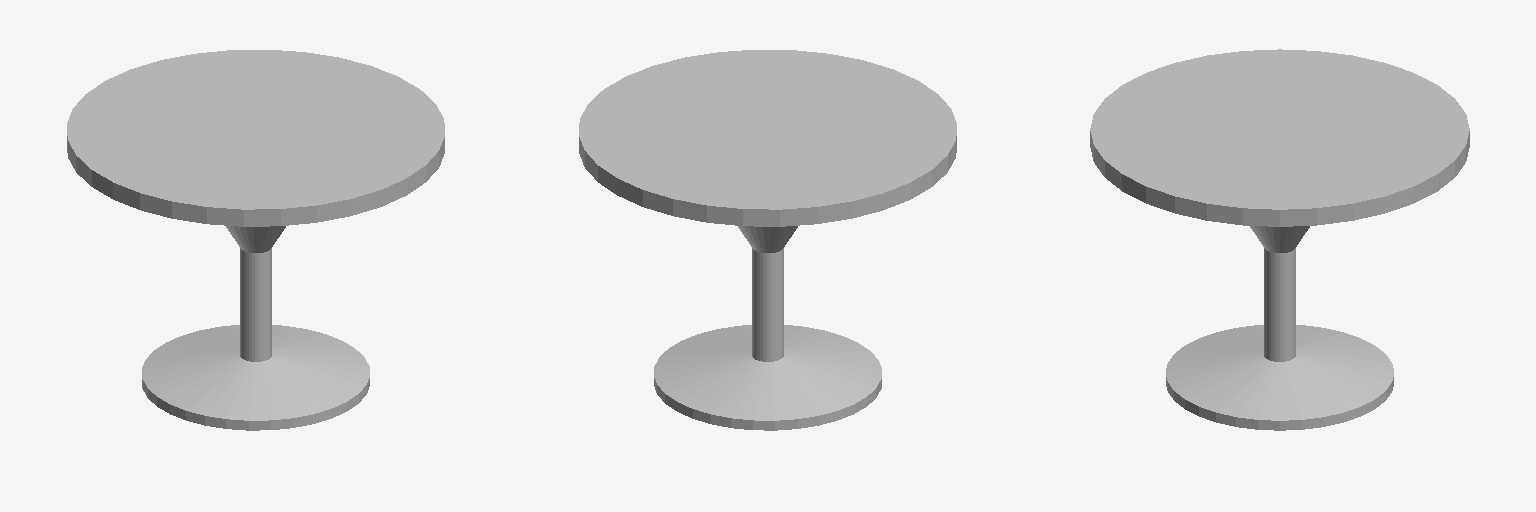
The model's file is table3.obj.
3 views of the same model, side by side, from view 1: azimuth 30°, elevation 25°; view 2: azimuth 150°, elevation 25°; view 3: azimuth 270°, elevation 25° (orthographic).
Parts seen in each view (by area): view 1: Table_3; view 2: Table_3; view 3: Table_3.
Part boxes in pixels (bbox=[...]): Table_3: bbox=[67, 50, 444, 430]; Table_3: bbox=[579, 50, 956, 430]; Table_3: bbox=[1090, 49, 1469, 430].
Bounding box in the file's own units: 2 × 1.47 × 2.